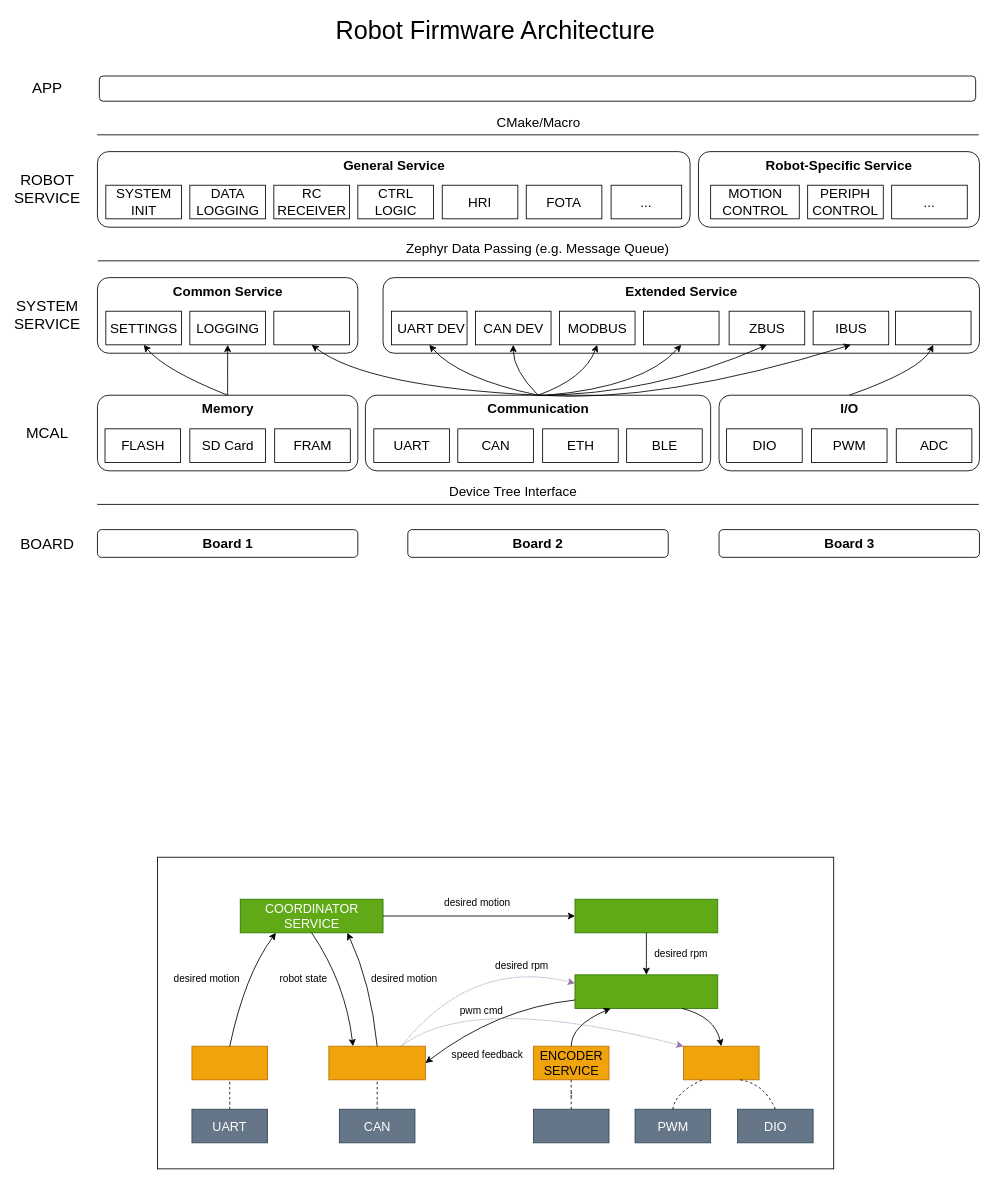
Some shapes in this 995 by 1184 pixel diagram are drawn without their labels. Each missing label, with the centre of its shape:
ACTUATOR SERVICE: point (721, 1062)
CANOPEN: point (681, 327)
ENCODER: point (571, 1125)
I/O DEV: point (933, 327)
MESSENGER SERVICE: point (376, 1062)
MOTION SERVICE: point (646, 915)
RECEIVER SERVICE: point (229, 1062)
Setup: point (537, 88)
SMP: point (311, 327)
SPEED CONTROL SERVICE: point (646, 991)
